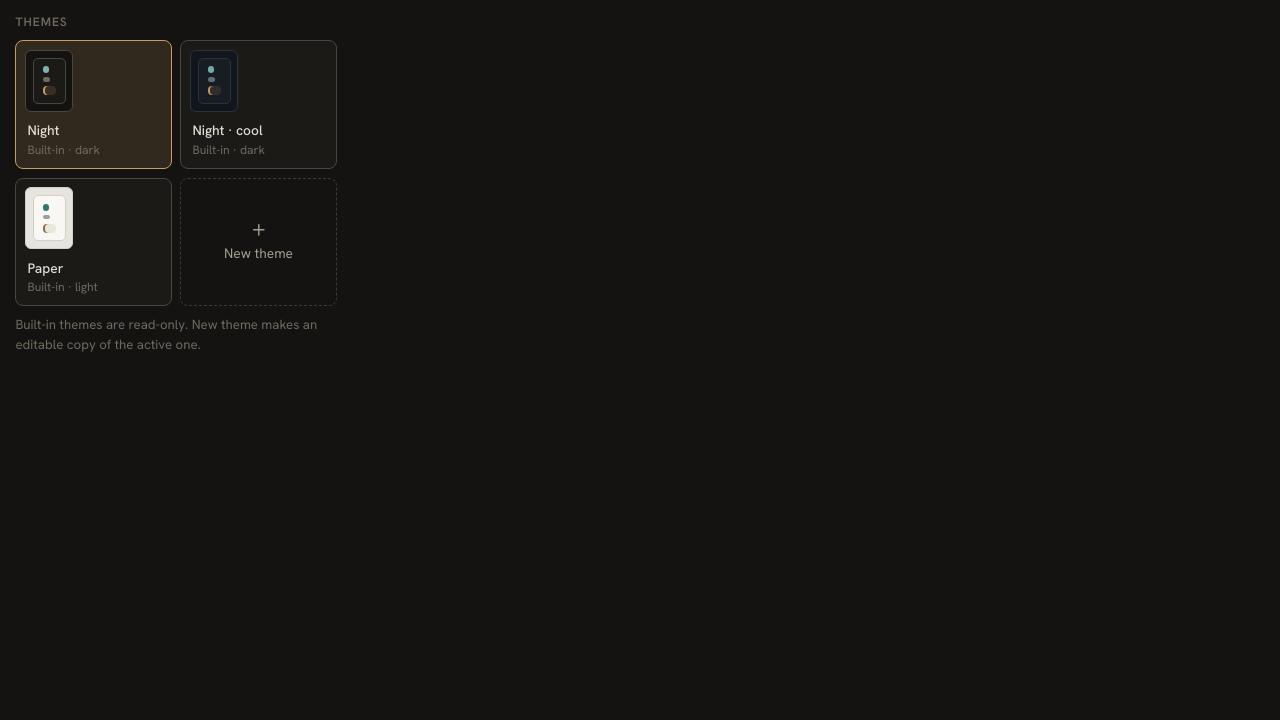
Test: ThemeSection › deletes a user theme after the inline confirmation (S02)
Click the button "Night · cool Built-in · dark" at (258,104), box x1=180 y1=40 x2=337 y2=169
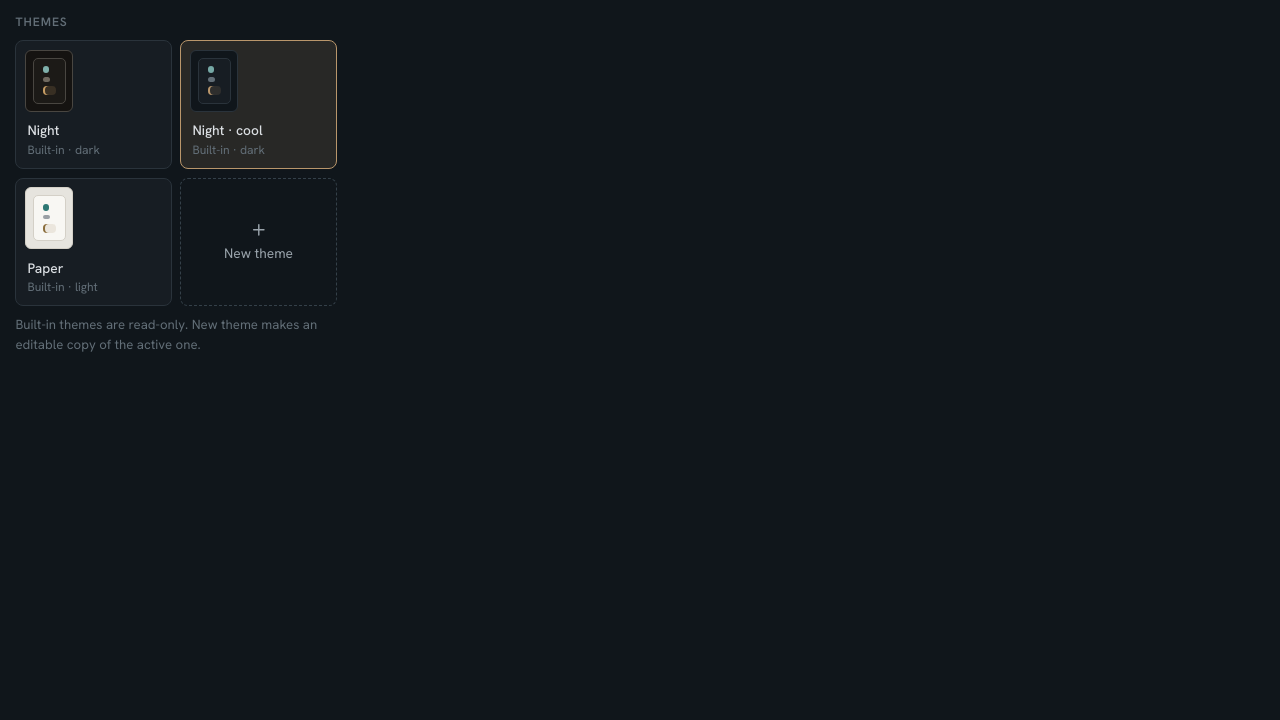
Click the button "New theme" at (258,242), box x1=180 y1=178 x2=337 y2=306
(page scrolled)
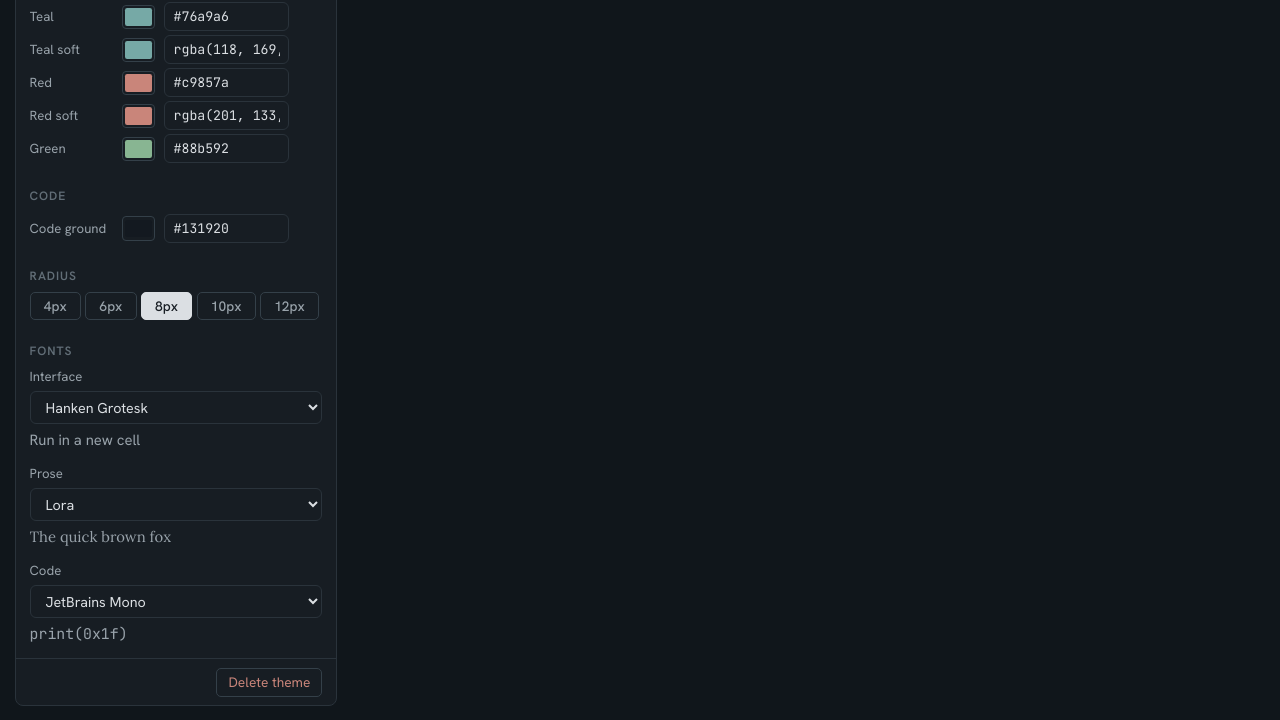
Click the button "Delete theme" at (269,682), box x1=216 y1=668 x2=322 y2=696
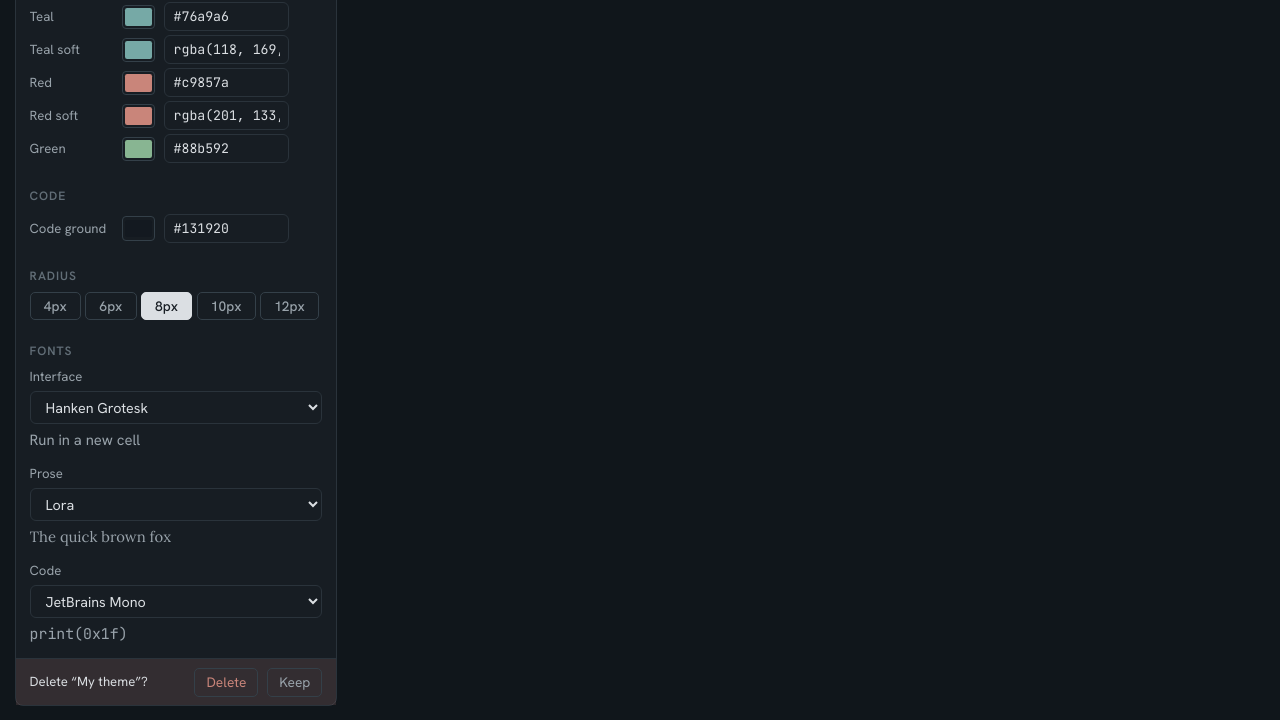
Click the button "Keep" at (295,682), box x1=267 y1=668 x2=322 y2=696
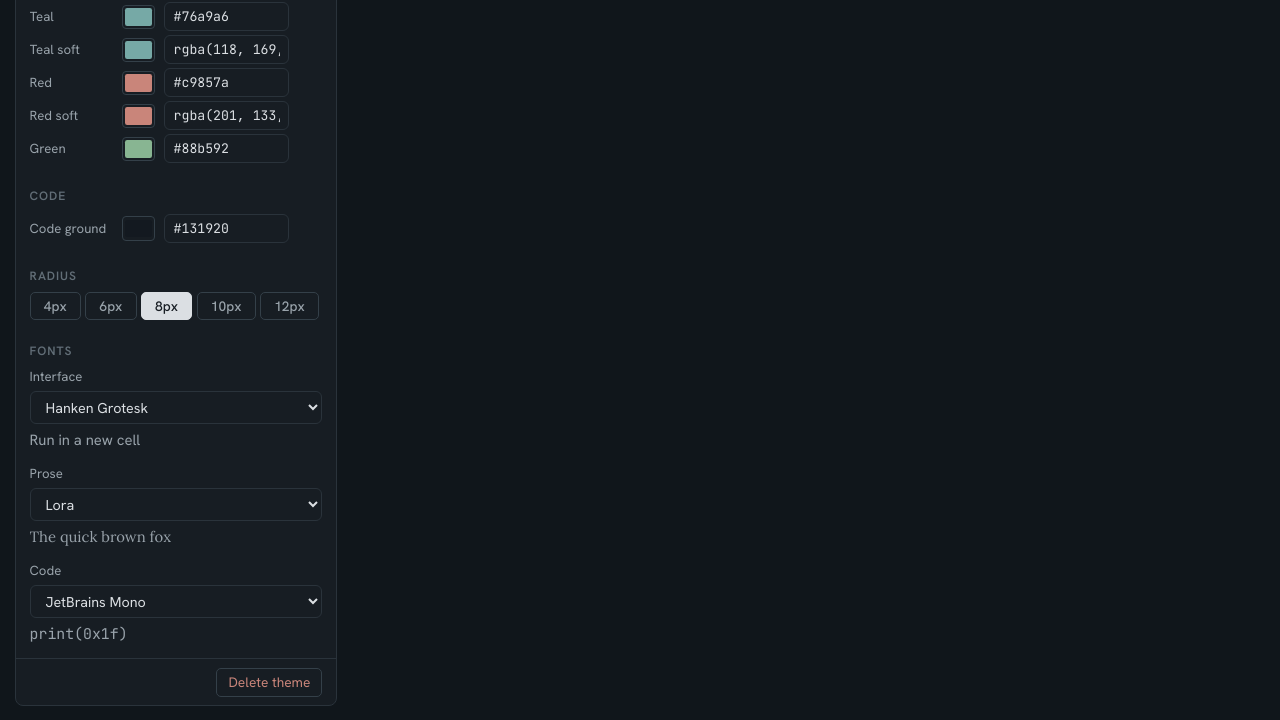
Click the button "Delete theme" at (269,682), box x1=216 y1=668 x2=322 y2=696
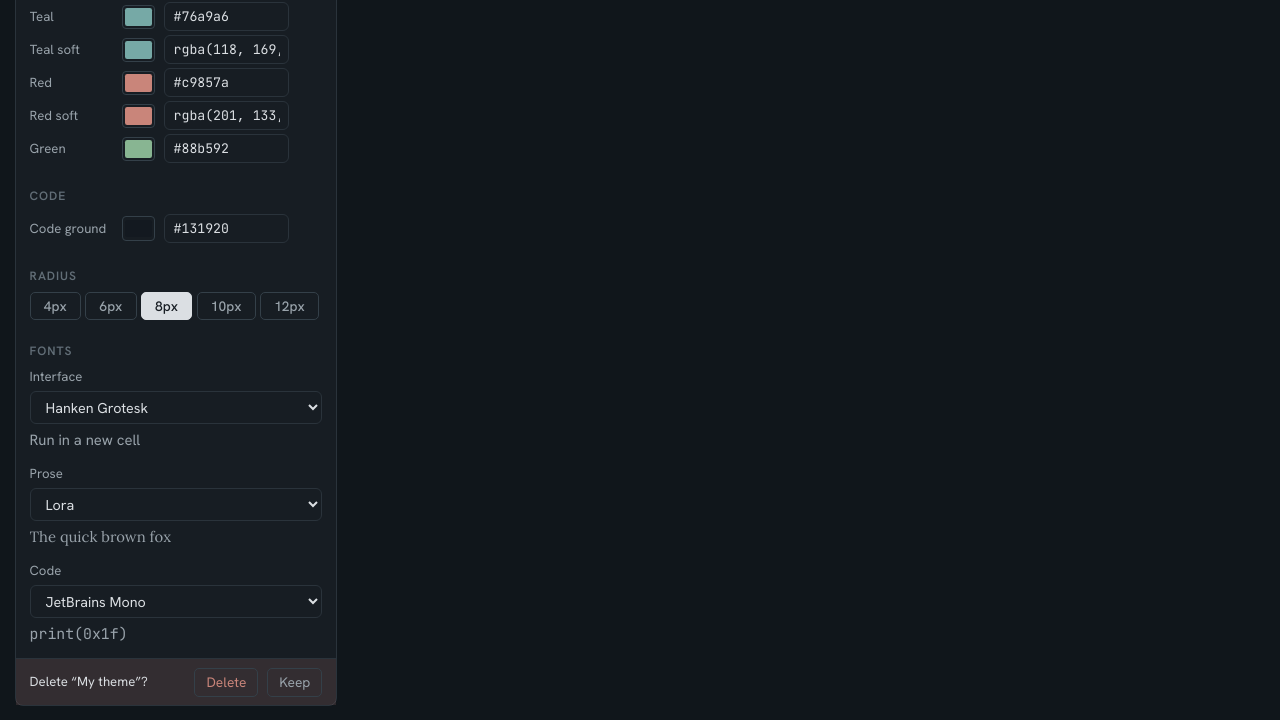
Click the button "Delete" at (226,682), box x1=194 y1=668 x2=258 y2=696
(page scrolled)
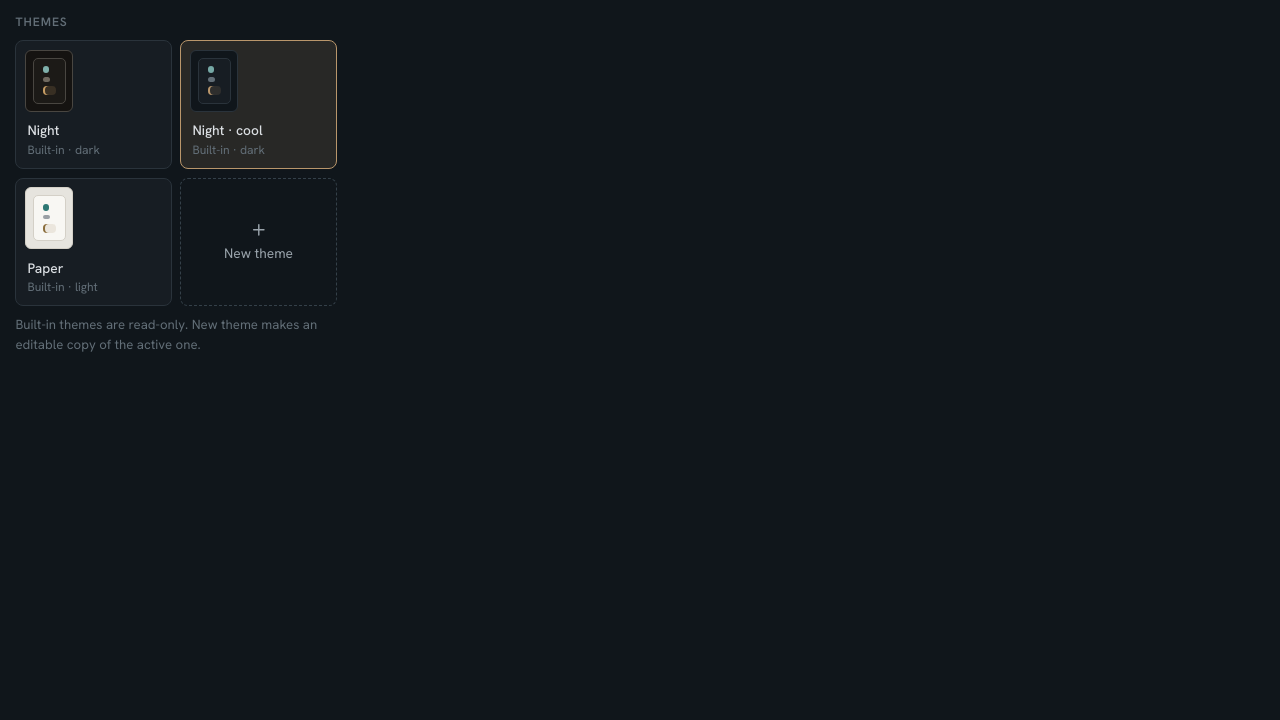
Result: the text "My theme" is gone
